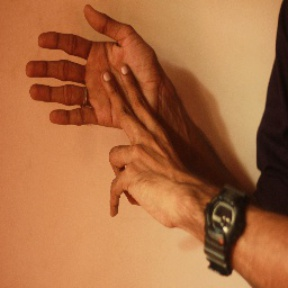N: (24, 2, 196, 220)
